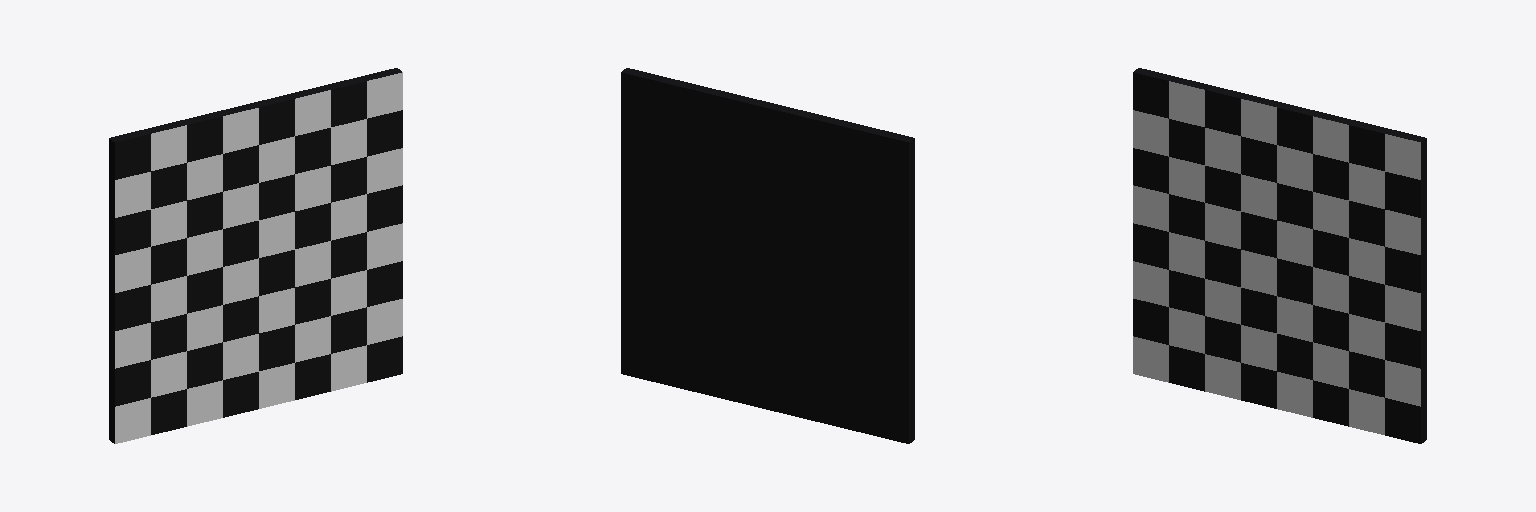
The picture shows the model from 3 angles: view 1: azimuth 30°, elevation 25°; view 2: azimuth 150°, elevation 25°; view 3: azimuth 330°, elevation 25°; orthographic projection.
Visible parts, largest first — view 1: simpleBoard; view 2: simpleBoard; view 3: simpleBoard.
Boxes of the visible parts, <box> form: simpleBoard: <box>109,68,402,443</box>; simpleBoard: <box>621,68,914,443</box>; simpleBoard: <box>1133,68,1426,443</box>.
Bounding box in the file's own units: 0.508 × 0.508 × 0.0191.
1 materials, 1 textured.